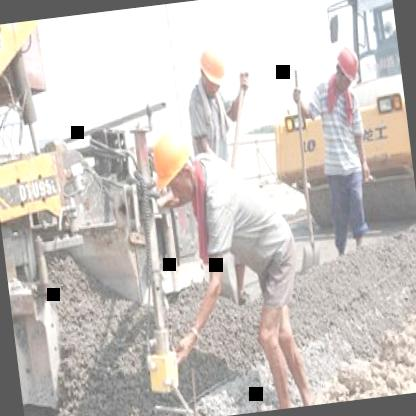helmet: (0, 20, 56, 143), (140, 118, 204, 214), (192, 36, 232, 100), (331, 40, 361, 89)
